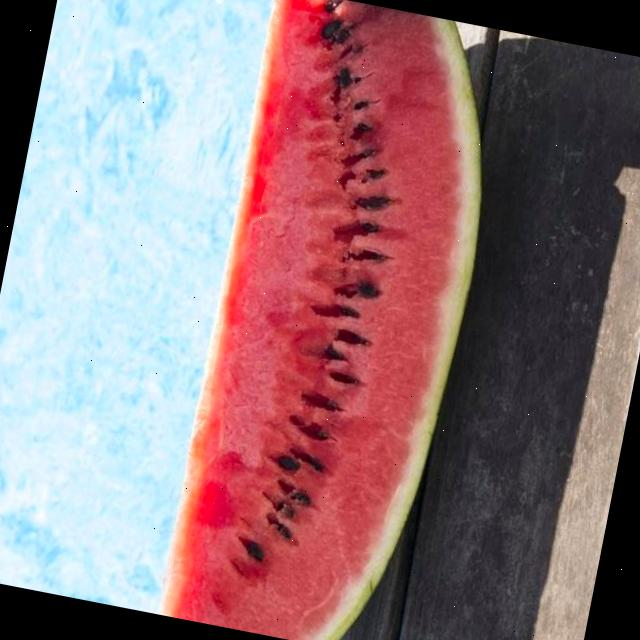watermelon: (100, 0, 523, 640)
